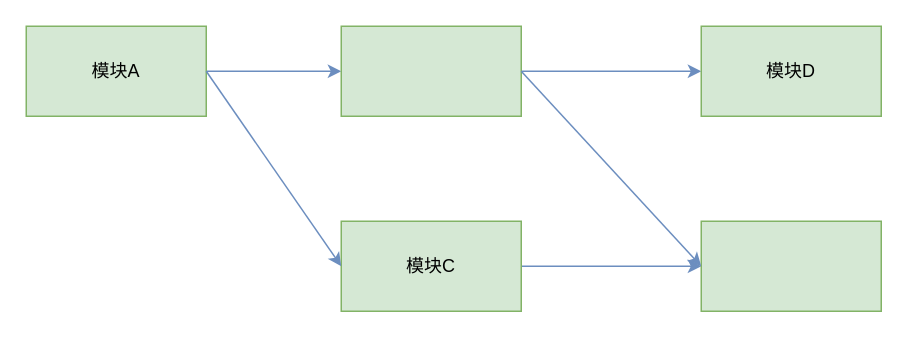
Some shapes in this 908 by 338 pixel diagram are drawn without their labels. Each missing label, with the box of its shape:
模块B: (340, 25, 521, 116)
模块E: (700, 220, 881, 311)
